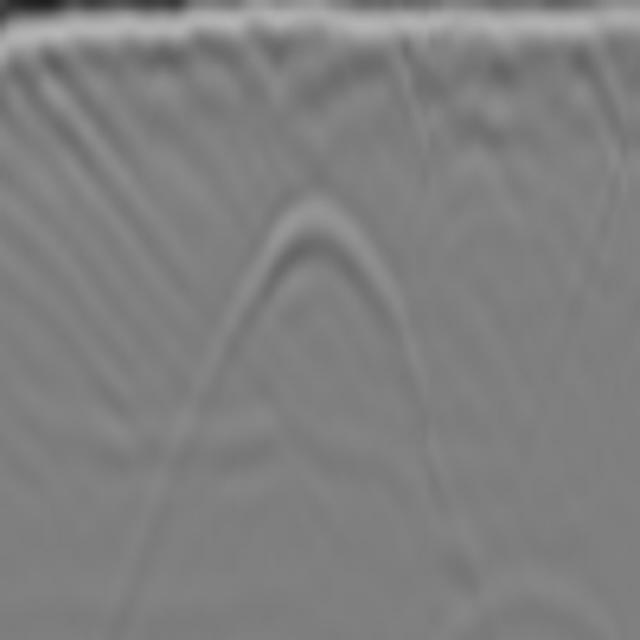hyperbola: (200, 168, 435, 385)
